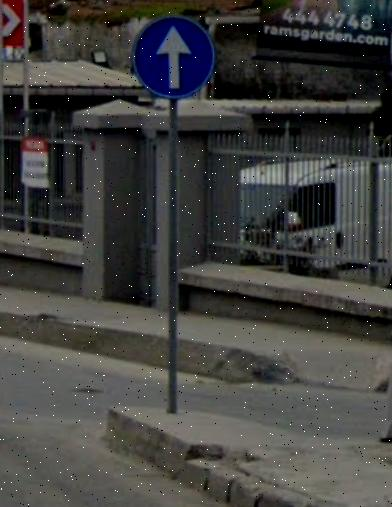forward: (136, 19, 214, 90)
